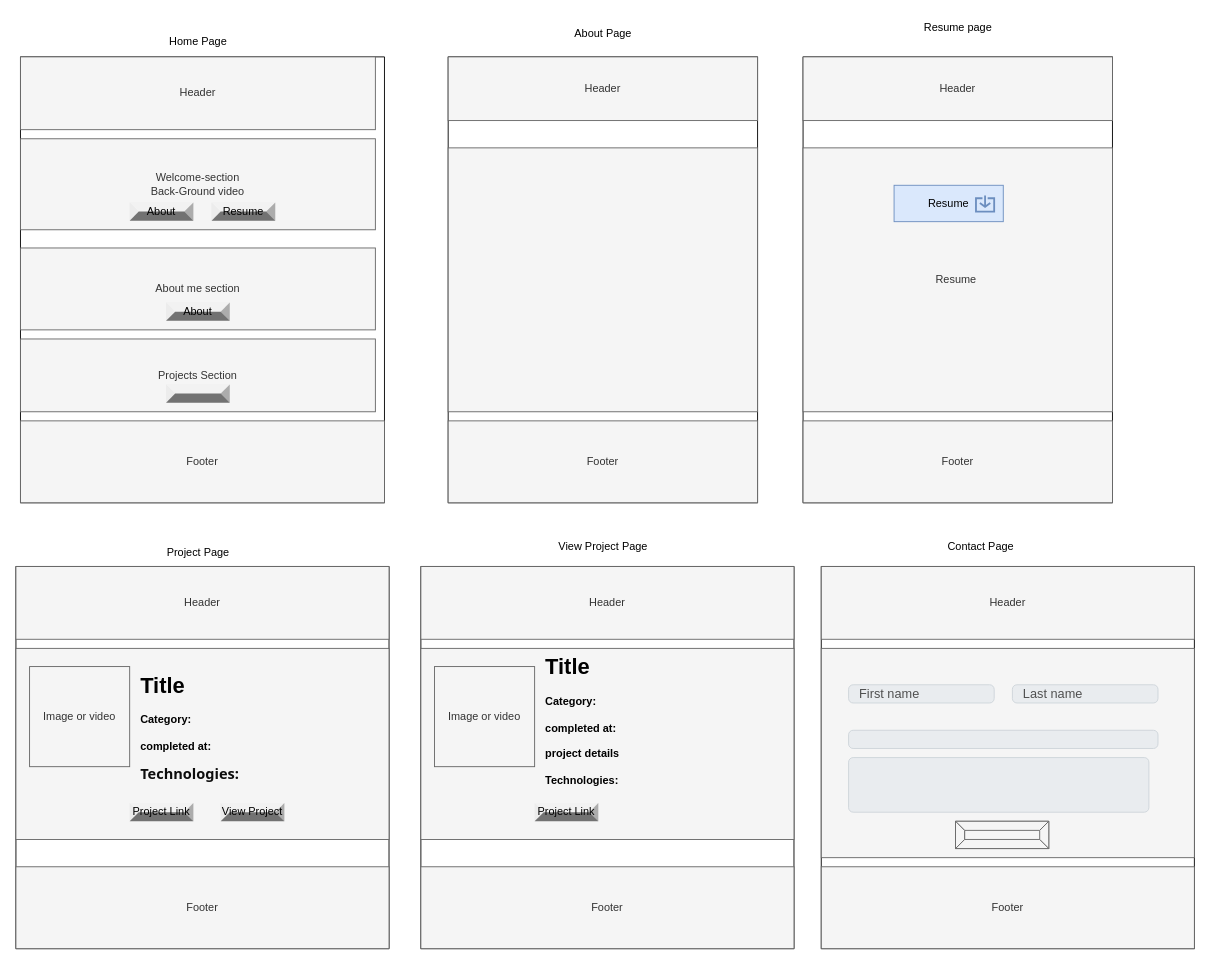
The diagram is 1210 pixels wide and 965 high, and some of its shapes have lost their labels. Each missing label, with the centre of its shape:
"About details" goes at [602,279].
"Email" goes at [1003,738].
"Message..." goes at [998,784].
"Project" goes at [197,393].
"Submit" goes at [1002,834].
